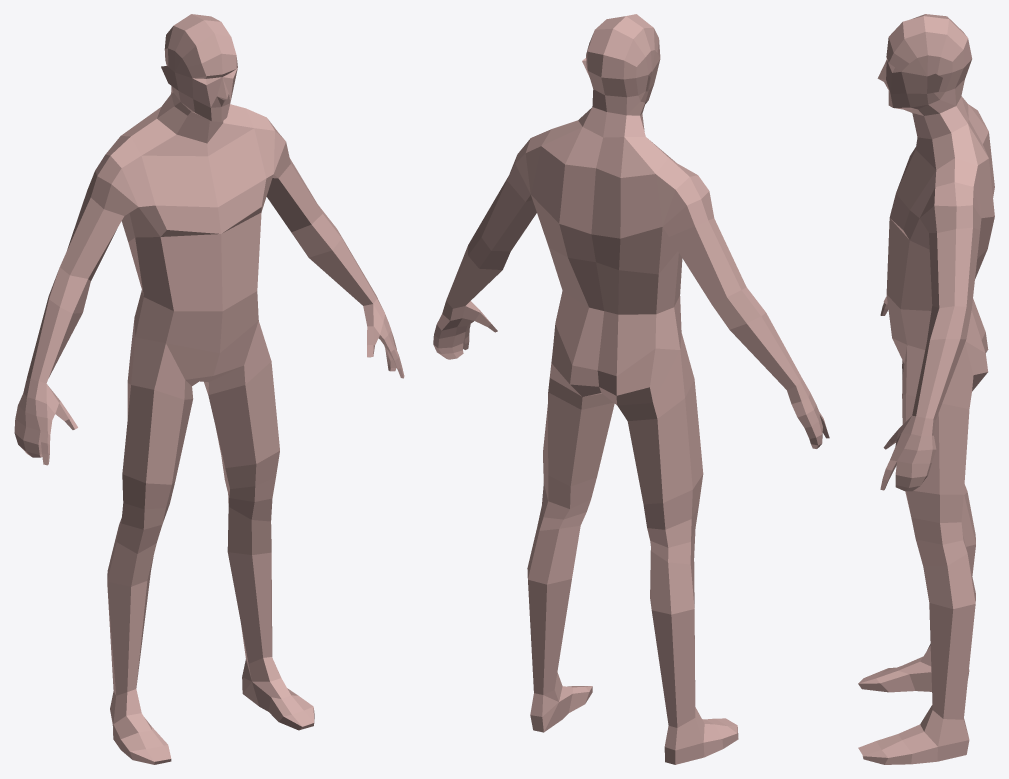
Rendered from male.fbx.
3 views of the same model, side by side, from view 1: azimuth 30°, elevation 25°; view 2: azimuth 150°, elevation 25°; view 3: azimuth 270°, elevation 25° (orthographic).
Visible parts, largest first — view 1: male; view 2: male; view 3: male.
Boxes of the visible parts, x1,y1,x2,y2 form: male: [14, 14, 404, 764]; male: [433, 14, 829, 764]; male: [858, 14, 994, 764].
Size of the model in its own units: 196 by 350 by 61.56.
